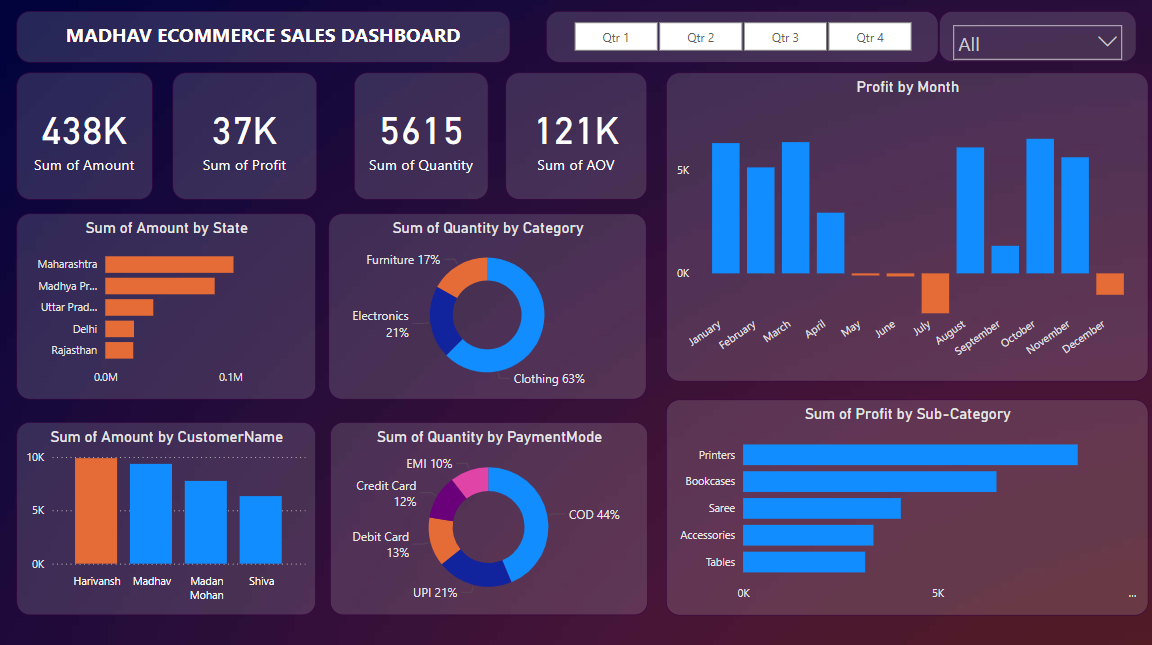

Layout of this report page (visuals, bound fields, positions):
{"tool":"powerbi","page":{"name":"Page 1","canvas":[1280,720],"ordinal":0},"visuals":[{"type":"columnChart","title":"Profit by Month","fields":{"Category":["Orders11.Order Date.Variation.Date Hierarchy.Month"],"Y":["Sum(Details.Profit)"]},"box":[739.6,81.1,536,343.6],"z":0},{"type":"textbox","box":[19.1,12.7,548.8,57.3],"z":1000},{"type":"barChart","fields":{"Category":["Details.Sub-Category"],"Y":["Sum(Details.Profit)"]},"box":[739.6,445.4,536,240.2],"z":2000},{"type":"donutChart","fields":{"Category":["Details.Category"],"Y":["Sum(Details.Quantity)"]},"box":[364.2,238.6,353.1,206.8],"z":3000},{"type":"donutChart","fields":{"Y":["Sum(Details.Quantity)"],"Category":["Details.PaymentMode"]},"box":[365.8,470.8,353.1,214.7],"z":4000},{"type":"card","fields":{"Values":["Sum(Details.Amount)"]},"box":[19.1,81.1,151.1,141.6],"z":5000},{"type":"card","fields":{"Values":["Sum(Details.Quantity)"]},"box":[392.9,81.1,149.5,141.6],"z":6000},{"type":"card","fields":{"Values":["Sum(Details.Profit)"]},"box":[190.9,81.1,160.7,141.6],"z":7000},{"type":"card","fields":{"Values":["Sum(Details.AOV)"]},"box":[561.5,81.1,157.5,141.6],"z":8000},{"type":"barChart","fields":{"Category":["Orders11.State"],"Y":["Sum(Details.Amount)"]},"box":[19.1,238.6,332.4,206.8],"z":9000},{"type":"columnChart","fields":{"Category":["Orders11.CustomerName"],"Y":["Sum(Details.Amount)"]},"box":[19.1,470.8,332.4,214.7],"z":10000},{"type":"slicer","fields":{"Values":["Orders11.Order Date.Variation.Date Hierarchy.Quarter"]},"box":[606,12.7,435.8,57.3],"z":11000},{"type":"slicer","fields":{"Values":["Orders11.State"]},"box":[1043.2,13.2,219.2,56.7],"z":11001}]}

Visuals, with their boxes in screenshot pixels (x1, y1, x2, y2), scaled from the page's 1280x720 canvas onto the 1152x645 screenshot:
"Profit by Month" columnChart: region(666, 73, 1148, 380)
textbox: region(17, 11, 511, 63)
barChart - Details.Sub-Category x Sum(Details.Profit): region(666, 399, 1148, 614)
donutChart - Details.Category x Sum(Details.Quantity): region(328, 214, 646, 399)
donutChart - Sum(Details.Quantity) x Details.PaymentMode: region(329, 422, 647, 614)
card - Sum(Details.Amount): region(17, 73, 153, 200)
card - Sum(Details.Quantity): region(354, 73, 488, 200)
card - Sum(Details.Profit): region(172, 73, 316, 200)
card - Sum(Details.AOV): region(505, 73, 647, 200)
barChart - Orders11.State x Sum(Details.Amount): region(17, 214, 316, 399)
columnChart - Orders11.CustomerName x Sum(Details.Amount): region(17, 422, 316, 614)
slicer - Orders11.Order Date.Variation.Date Hierarchy.Quarter: region(545, 11, 938, 63)
slicer - Orders11.State: region(939, 12, 1136, 63)
